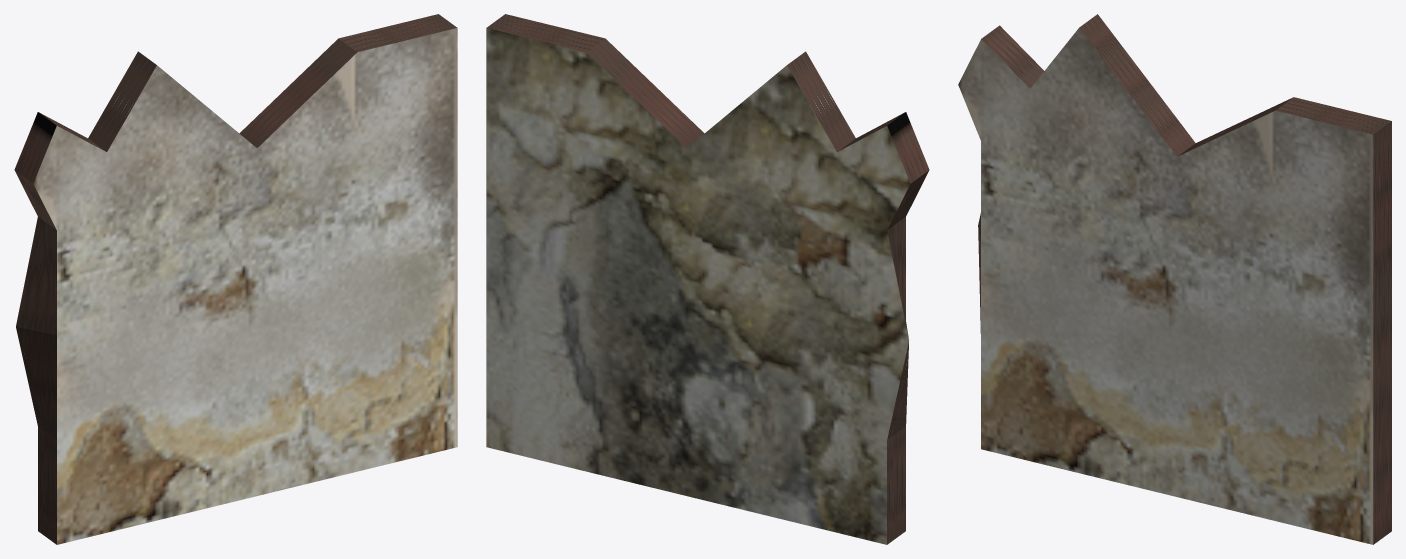
Rendered from Wall Mesh_3.fbx.
3 views of the same model, side by side, from view 1: azimuth 30°, elevation 25°; view 2: azimuth 150°, elevation 25°; view 3: azimuth 330°, elevation 25° (orthographic). The views are drawn at different scales.
Parts seen in each view (by area): view 1: Wall_mesh 3; view 2: Wall_mesh 3; view 3: Wall_mesh 3.
Boxes of the visible parts, x1,y1,x2,y2 form: Wall_mesh 3: (14,14,457,544); Wall_mesh 3: (486,14,929,544); Wall_mesh 3: (958,14,1391,544).
Bounding box in the file's own units: 212 × 217 × 16.4.
